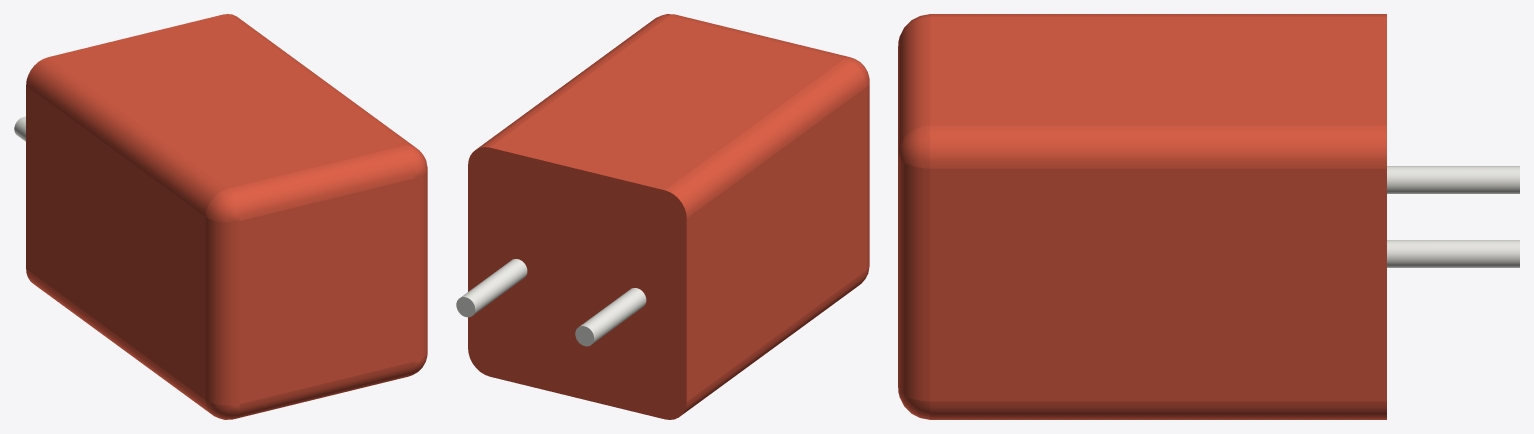
File: C_Rect_L4.6mm_W4.6mm_P2.50mm_MKS02_FKP02.glb
The picture shows the model from 3 angles, left to right: view 1: azimuth 30°, elevation 25°; view 2: azimuth 150°, elevation 25°; view 3: azimuth 270°, elevation 25°; orthographic projection. The views are drawn at different scales.
Visible parts, largest first — view 1: Shape_IndexedFaceSet, Shape_IndexedFaceSet.008, Shape_IndexedFaceSet.009, Shape_IndexedFaceSet.004, Shape_IndexedFaceSet.002, Shape_IndexedFaceSet.016, Shape_IndexedFaceSet.015, Shape_IndexedFaceSet.017, Shape_IndexedFaceSet.001, Shape_IndexedFaceSet.011, Shape_IndexedFaceSet.007, Shape_IndexedFaceSet.005 (+1 smaller); view 2: Shape_IndexedFaceSet.003, Shape_IndexedFaceSet, Shape_IndexedFaceSet.009, Shape_IndexedFaceSet.004, Shape_IndexedFaceSet.001, Shape_IndexedFaceSet.011, Shape_IndexedFaceSet.013, Shape_IndexedFaceSet.014, Shape_IndexedFaceSet.002, Shape_IndexedFaceSet.016; view 3: Shape_IndexedFaceSet.012, Shape_IndexedFaceSet.009, Shape_IndexedFaceSet.011, Shape_IndexedFaceSet.010, Shape_IndexedFaceSet.017, Shape_IndexedFaceSet.013, Shape_IndexedFaceSet.014, Shape_IndexedFaceSet.016, Shape_IndexedFaceSet.004, Shape_IndexedFaceSet.019.
Boxes of the visible parts, x1,y1,x2,y2 form: Shape_IndexedFaceSet: [26, 86, 205, 399]; Shape_IndexedFaceSet.008: [240, 178, 415, 403]; Shape_IndexedFaceSet.009: [48, 14, 401, 188]; Shape_IndexedFaceSet.004: [26, 57, 227, 216]; Shape_IndexedFaceSet.002: [205, 217, 240, 405]; Shape_IndexedFaceSet.016: [228, 146, 415, 220]; Shape_IndexedFaceSet.015: [235, 361, 415, 418]; Shape_IndexedFaceSet.017: [415, 171, 427, 360]; Shape_IndexedFaceSet.001: [26, 269, 210, 413]; Shape_IndexedFaceSet.011: [223, 14, 414, 146]; Shape_IndexedFaceSet.007: [205, 189, 239, 222]; Shape_IndexedFaceSet.005: [205, 400, 239, 419]; Shape_IndexedFaceSet.003: [468, 147, 686, 419]; Shape_IndexedFaceSet: [686, 87, 866, 401]; Shape_IndexedFaceSet.009: [490, 16, 843, 190]; Shape_IndexedFaceSet.004: [665, 59, 866, 218]; Shape_IndexedFaceSet.001: [680, 270, 866, 416]; Shape_IndexedFaceSet.011: [477, 15, 668, 148]; Shape_IndexedFaceSet.013: [580, 288, 646, 343]; Shape_IndexedFaceSet.014: [461, 259, 527, 314]; Shape_IndexedFaceSet.002: [866, 83, 869, 269]; Shape_IndexedFaceSet.016: [670, 14, 849, 58]; Shape_IndexedFaceSet.012: [930, 168, 1386, 401]; Shape_IndexedFaceSet.009: [930, 17, 1386, 125]; Shape_IndexedFaceSet.011: [930, 125, 1386, 168]; Shape_IndexedFaceSet.010: [930, 401, 1386, 419]; Shape_IndexedFaceSet.017: [898, 155, 930, 401]; Shape_IndexedFaceSet.013: [1387, 166, 1519, 193]; Shape_IndexedFaceSet.014: [1387, 240, 1519, 267]; Shape_IndexedFaceSet.016: [898, 17, 930, 154]; Shape_IndexedFaceSet.004: [930, 14, 1386, 16]; Shape_IndexedFaceSet.019: [898, 125, 930, 168].
Bounding box in the file's own units: 1.81 × 1.81 × 3.5.
